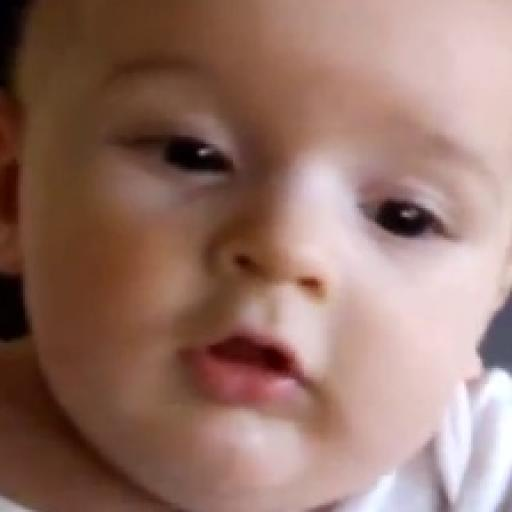Autism: (22, 3, 504, 495)
